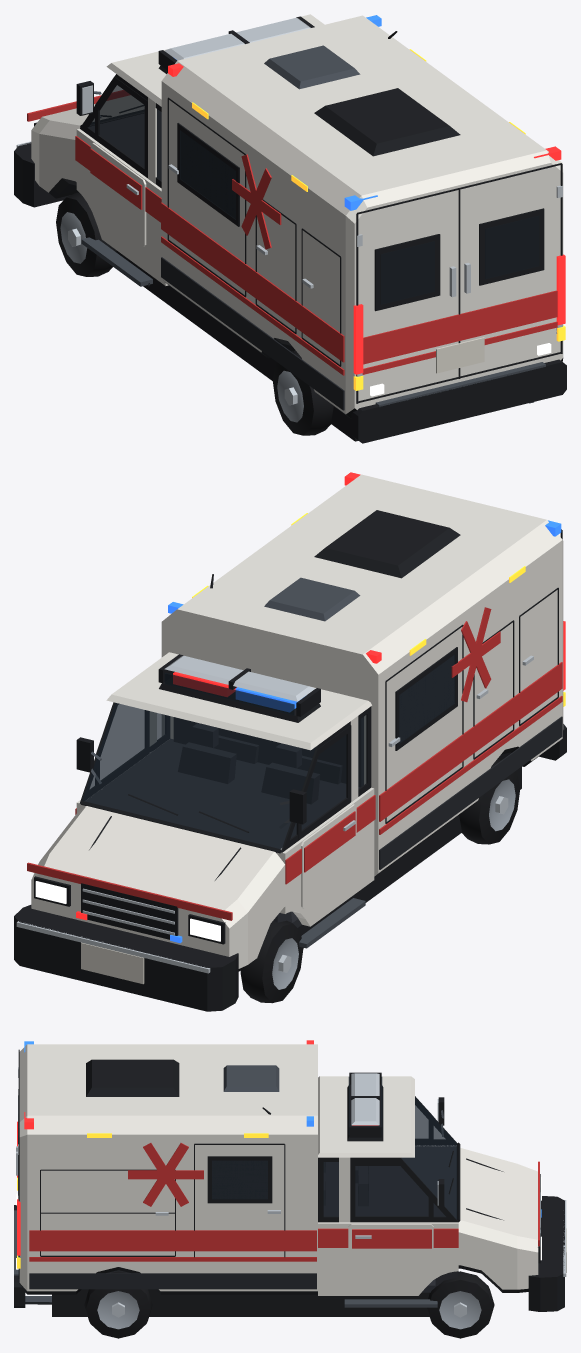
The model's file is ambulance.glb.
3 renders of one model, top to bottom at view 1: azimuth 30°, elevation 25°; view 2: azimuth 150°, elevation 25°; view 3: azimuth 270°, elevation 25°, orthographic. The views are drawn at different scales.
Parts seen in each view (by area): view 1: Body, DoorL, Wheel_FL, Wheel_RL, SirenBar; view 2: Body, DoorL, SirenBar, Wheel_FL, Wheel_RL, DoorR, SirenBar_L, SirenBar_R; view 3: Body, DoorR, Wheel_FR, Wheel_RR, SirenBar.
Part boxes in pixels (bbox=[...]): Body: bbox=[14, 14, 566, 443]; DoorL: bbox=[76, 76, 147, 246]; Wheel_FL: bbox=[56, 192, 116, 276]; Wheel_RL: bbox=[272, 351, 333, 435]; SirenBar: bbox=[158, 16, 314, 73]; Body: bbox=[14, 472, 566, 1011]; DoorL: bbox=[279, 725, 356, 908]; SirenBar: bbox=[158, 654, 320, 722]; Wheel_FL: bbox=[240, 920, 303, 1003]; Wheel_RL: bbox=[459, 760, 520, 844]; DoorR: bbox=[76, 702, 149, 785]; SirenBar_L: bbox=[235, 687, 303, 712]; SirenBar_R: bbox=[173, 672, 236, 696]; Body: bbox=[14, 1040, 566, 1316]; DoorR: bbox=[348, 1161, 444, 1277]; Wheel_FR: bbox=[427, 1271, 494, 1338]; Wheel_RR: bbox=[84, 1271, 152, 1338]; SirenBar: bbox=[347, 1072, 383, 1141].
Size of the model in its own units: 2.17 by 2.65 by 5.82.
